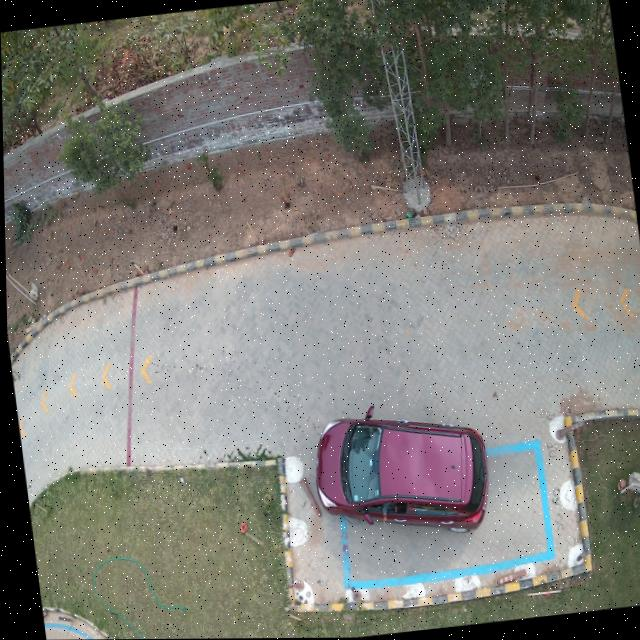car: (314, 419, 486, 531)
